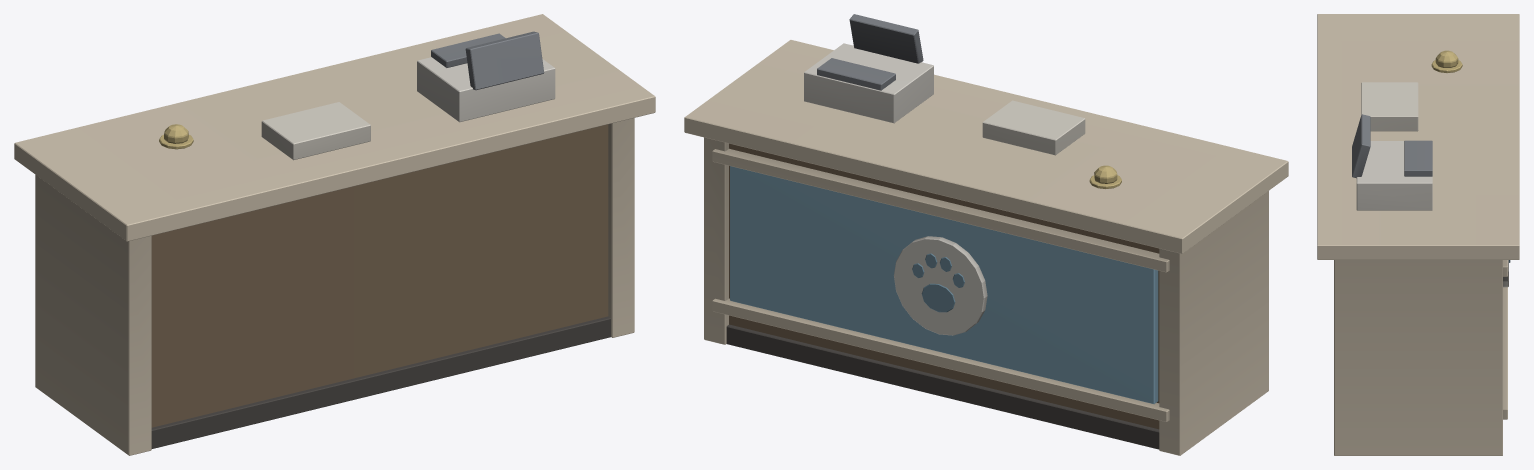
Rendered from mall_counter__f4.glb.
3 renders of one model, left to right at view 1: azimuth 30°, elevation 25°; view 2: azimuth 150°, elevation 25°; view 3: azimuth 270°, elevation 25°, orthographic. The views are drawn at different scales.
Visible parts, largest first — view 1: mall.counter__f4; view 2: mall.counter__f4; view 3: mall.counter__f4.
Boxes of the visible parts, x1,y1,x2,y2 form: mall.counter__f4: [14, 14, 655, 455]; mall.counter__f4: [684, 14, 1288, 455]; mall.counter__f4: [1317, 14, 1519, 455].
Size of the model in its own units: 2.3 by 1.28 by 0.85.
